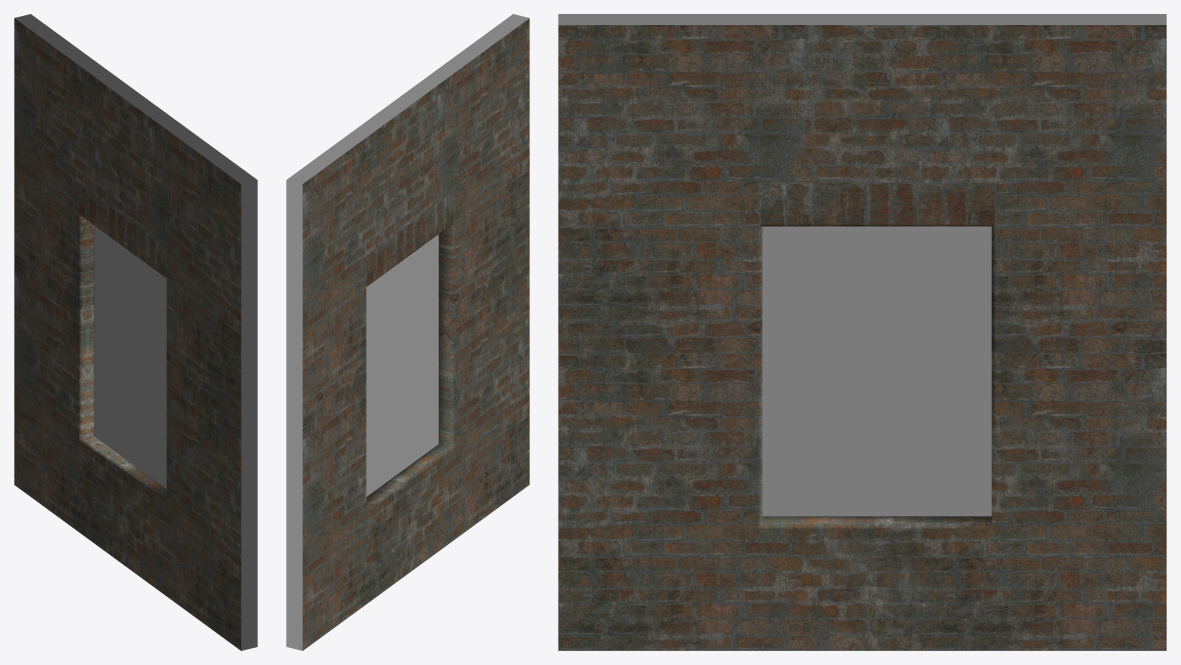
The model's file is SM_Window_Wall_2.gltf.
The picture shows the model from 3 angles, left to right: view 1: azimuth 30°, elevation 25°; view 2: azimuth 150°, elevation 25°; view 3: azimuth 270°, elevation 25°; orthographic projection. The views are drawn at different scales.
Parts seen in each view (by area): view 1: SM_Window_Wall_2_LOD0, SM_Window_Wall_2_ConvexHulls; view 2: SM_Window_Wall_2_LOD0, SM_Window_Wall_2_ConvexHulls; view 3: SM_Window_Wall_2_LOD0, SM_Window_Wall_2_ConvexHulls.
Boxes of the visible parts, box(x1,y1,x2,y2) form: SM_Window_Wall_2_LOD0: box(14, 18, 241, 650); SM_Window_Wall_2_ConvexHulls: box(14, 14, 257, 650); SM_Window_Wall_2_LOD0: box(302, 18, 529, 650); SM_Window_Wall_2_ConvexHulls: box(286, 14, 529, 650); SM_Window_Wall_2_LOD0: box(558, 25, 1166, 650); SM_Window_Wall_2_ConvexHulls: box(558, 14, 1166, 650).
Size of what is drawn, in the model's own units: 0.1849 by 5 by 4.4.
